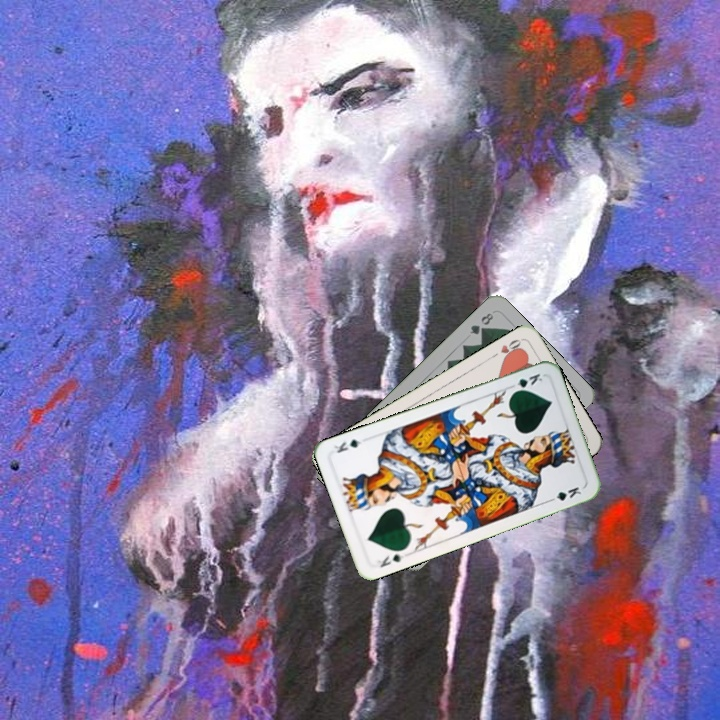G8: (465, 309, 496, 337)
GK: (506, 369, 545, 395), (374, 550, 406, 570)
HO: (487, 335, 525, 362)
